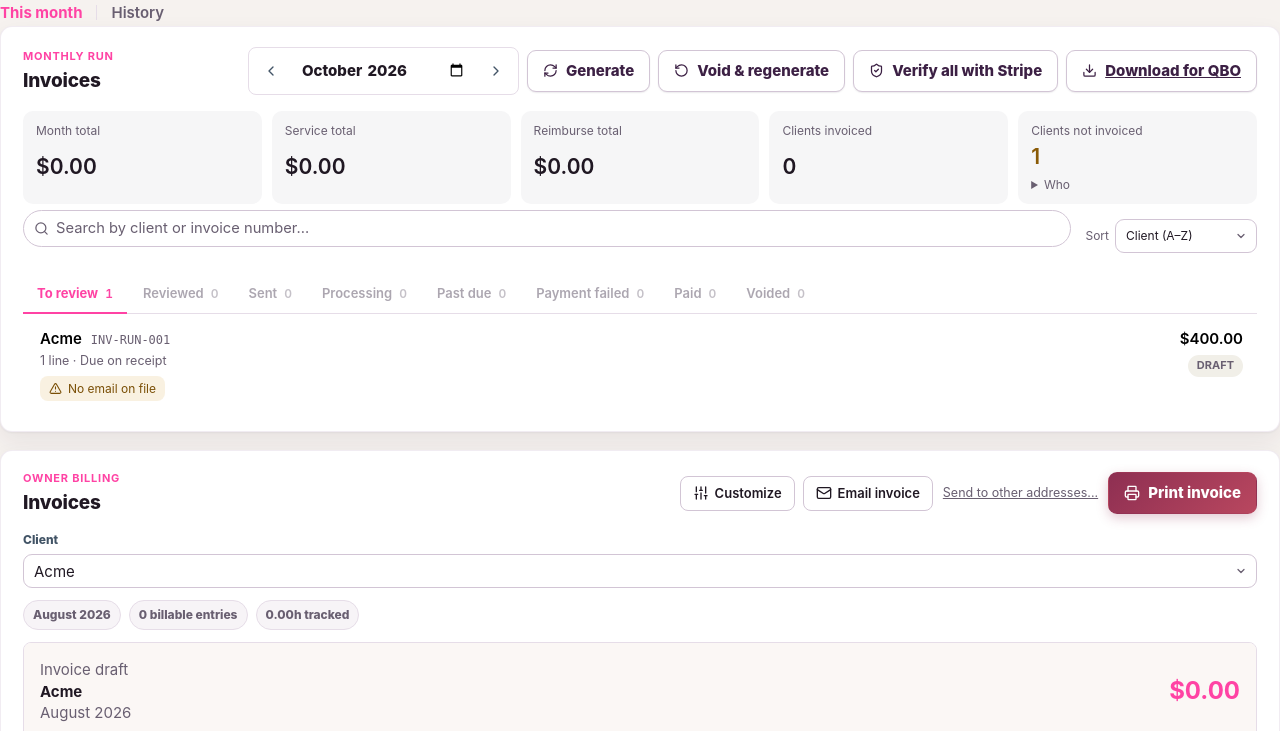
Test: InvoicesPage — This month / History › keeps her in History, and says why, when she declines to discard
Click the text "INV-RUN-001" at (131, 341), box [91,332,170,350]
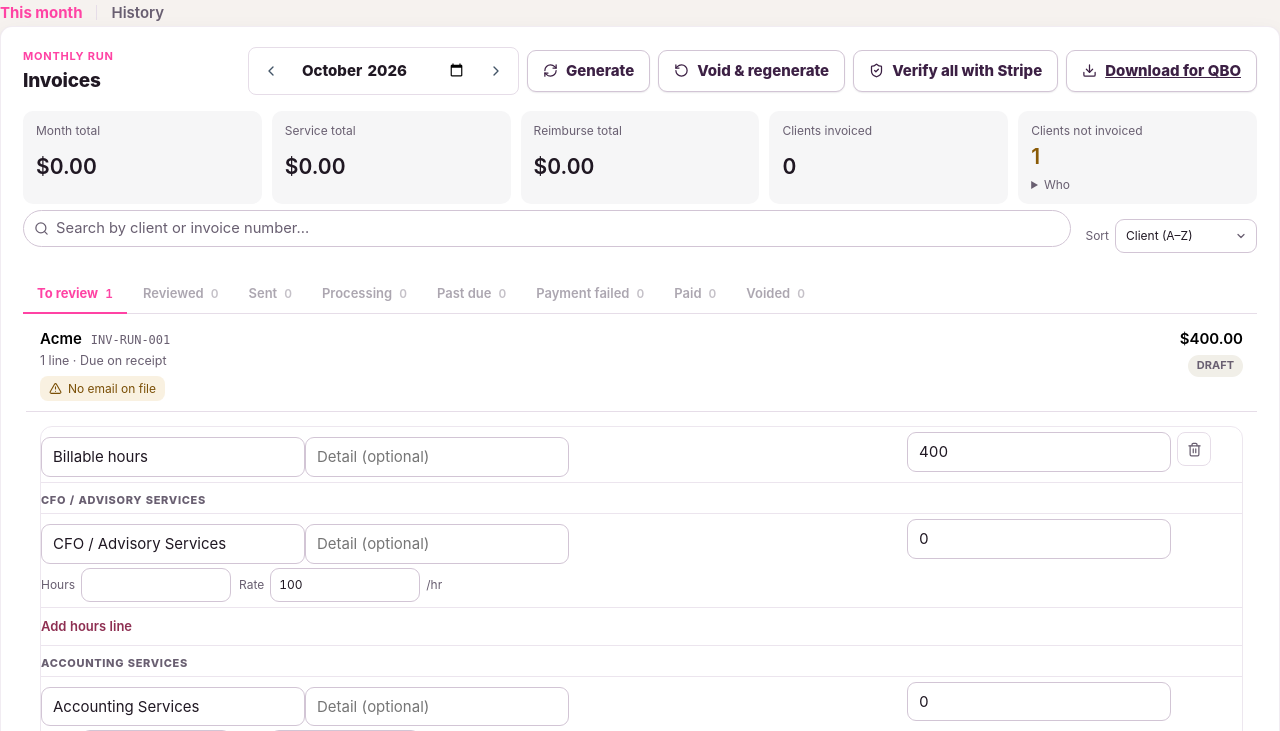
Replace the text in the field named "Line description" with "Billable hours — corrected" at (173, 457), box [41,437,305,477]
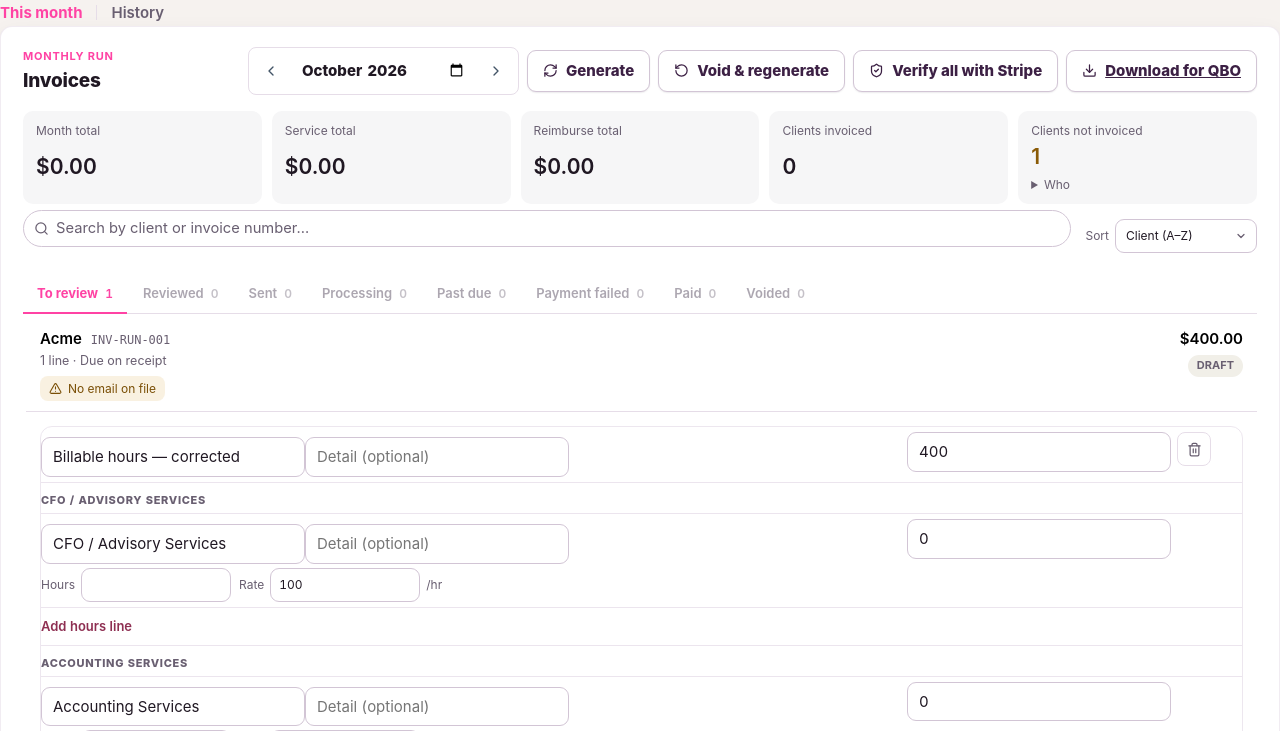
Click the button "History" at (138, 13), box [112,0,164,26]
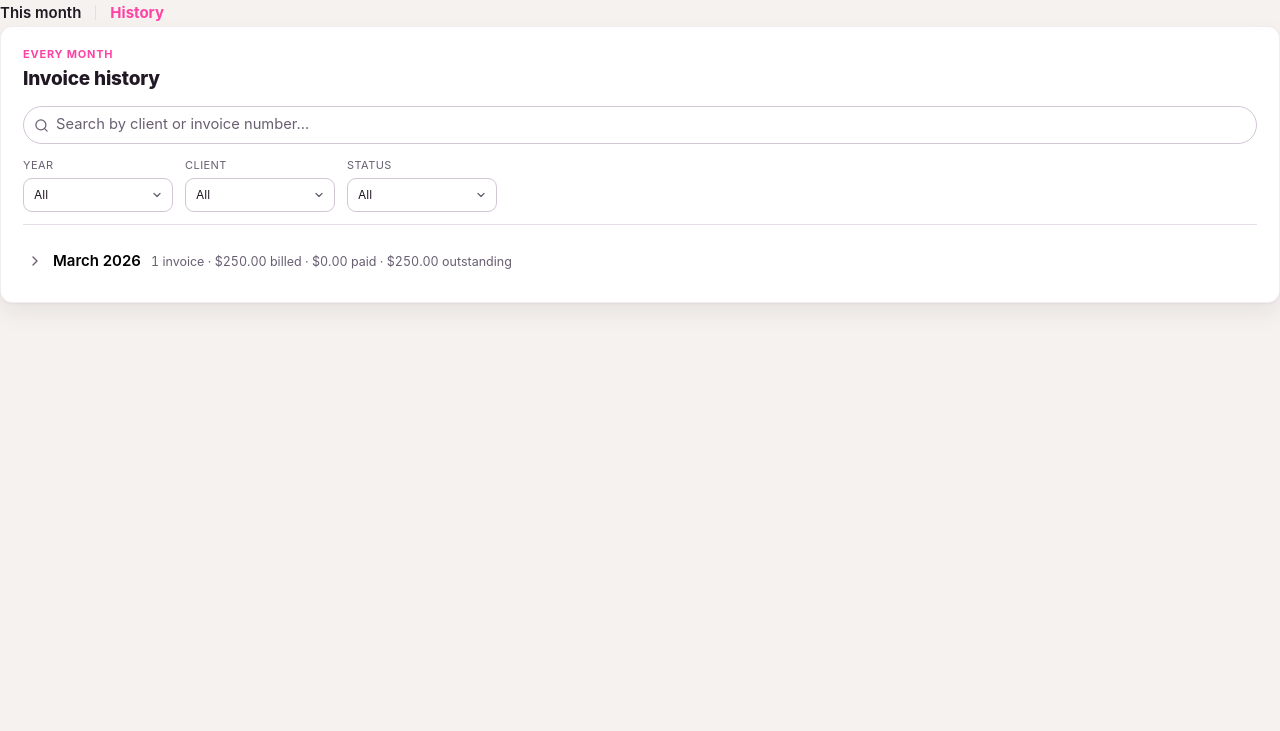
Click the button "March 2026" at (97, 260), box [23,239,1257,282]
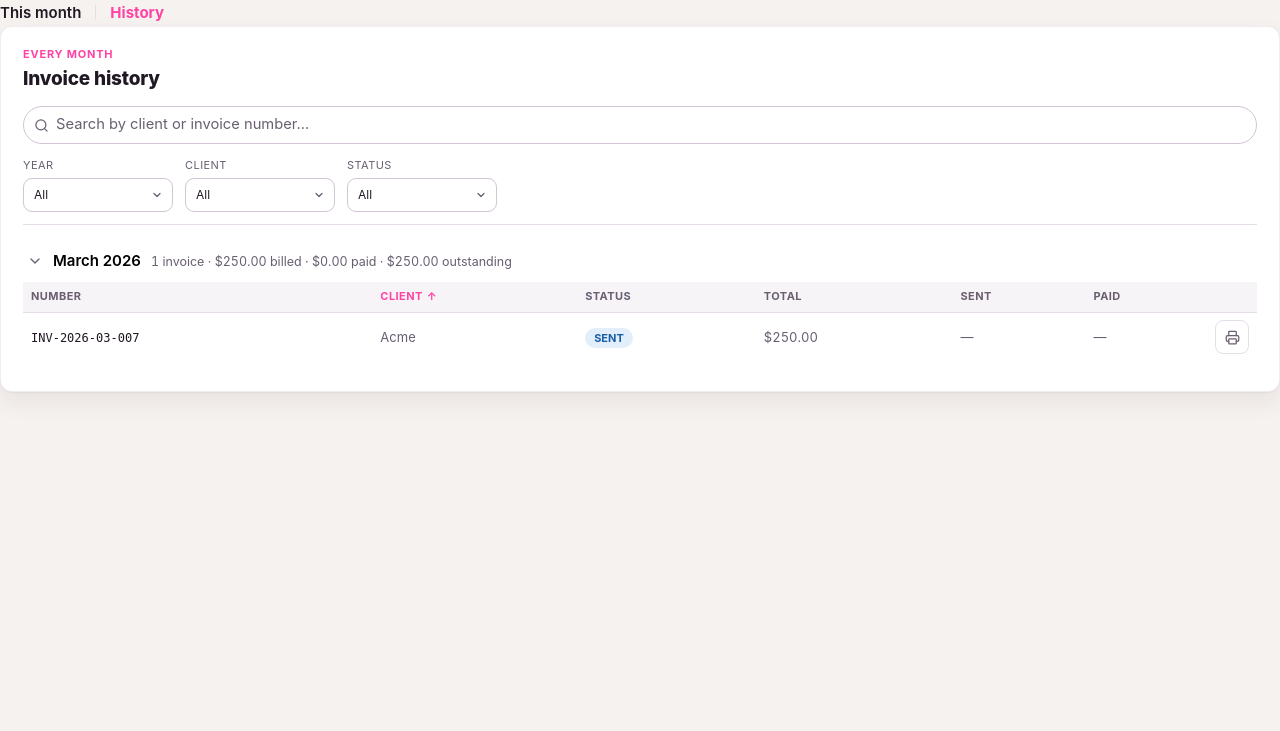
Click the button "INV-2026-03-007" at (85, 338), box [31,330,139,347]
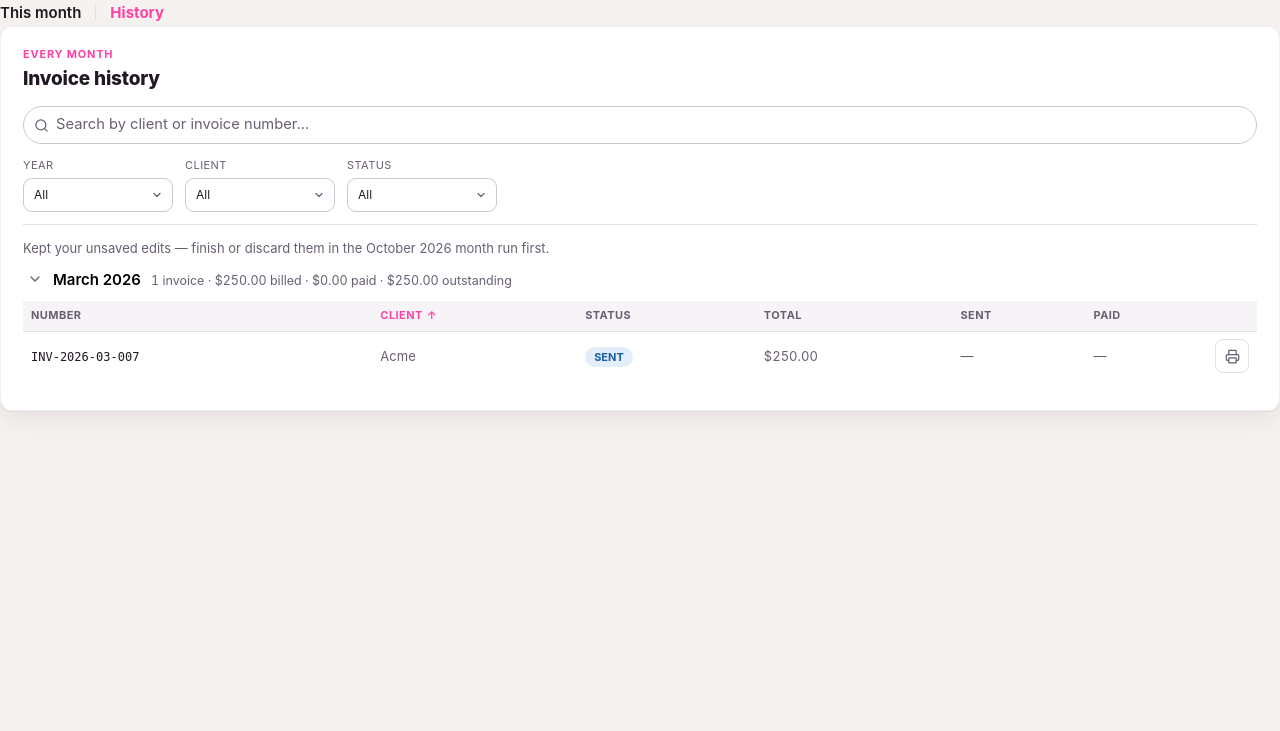
Check: the text "Kept your unsaved edits" shows "month run first.", box [23,240,549,256]
